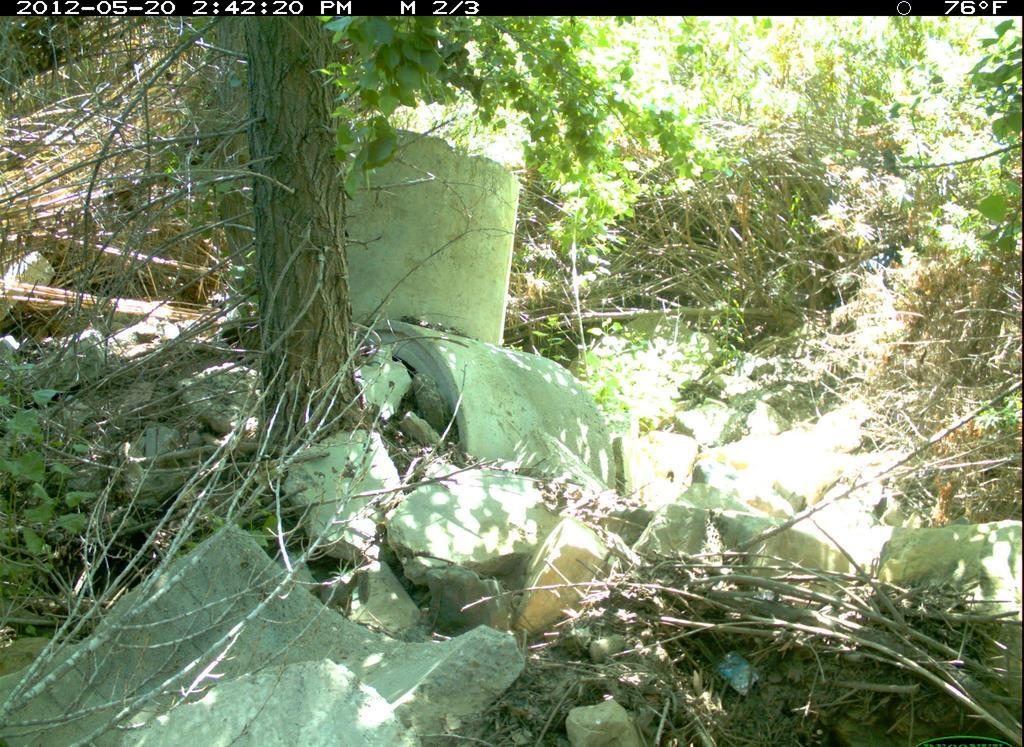squirrel: (306, 565, 378, 625)
